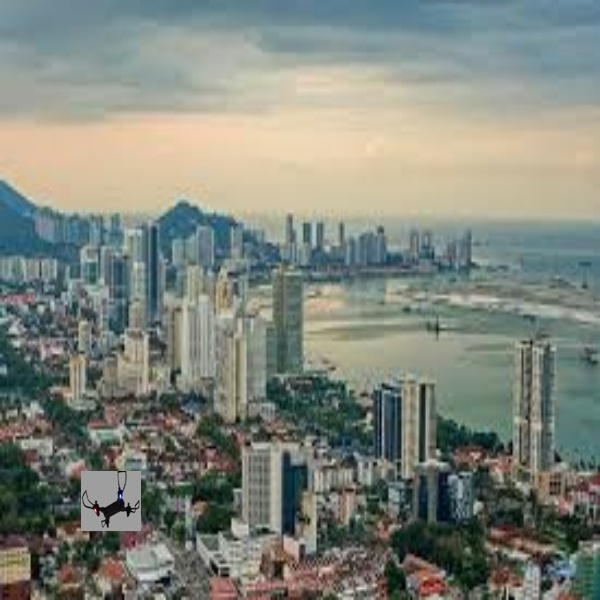drone: (82, 472, 144, 527)
